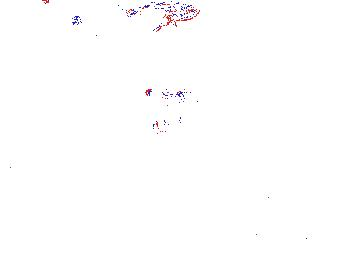X-ray fish: (325, 175, 346, 208), (149, 63, 164, 105)
red belly glassfish: (147, 114, 188, 134), (143, 87, 188, 105)
redtail glassfish: (120, 3, 203, 33)
